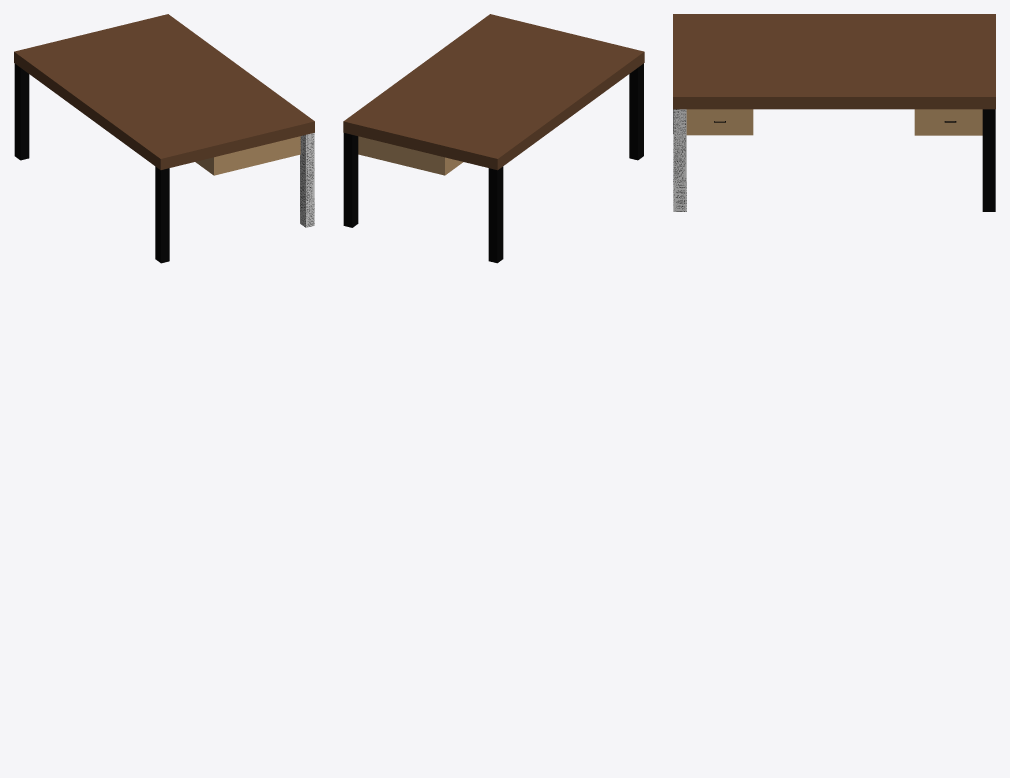
File: OfficeTable.glb
The picture shows the model from 3 angles, left to right: view 1: azimuth 30°, elevation 25°; view 2: azimuth 150°, elevation 25°; view 3: azimuth 270°, elevation 25°; orthographic projection. The views are drawn at different scales.
Visible parts, largest first — view 1: Office_Table; view 2: Office_Table; view 3: Office_Table.
Part boxes in pixels (x1=…): Office_Table: x1=14, y1=14, x2=314, y2=263; Office_Table: x1=343, y1=14, x2=644, y2=263; Office_Table: x1=673, y1=14, x2=995, y2=211.
Size of the model in its own units: 2.08 by 7.8 by 3.41.
